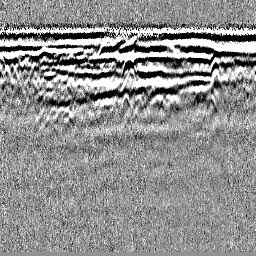cavity: (120, 52, 138, 79)
